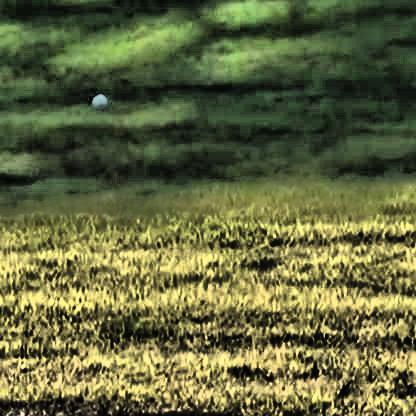golfball: (89, 90, 108, 108)
